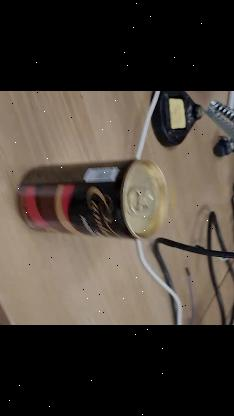Can: (14, 160, 166, 238)
